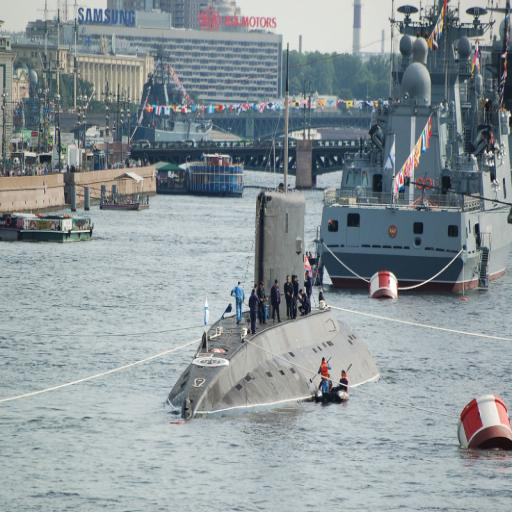submarine: (163, 189, 385, 420)
